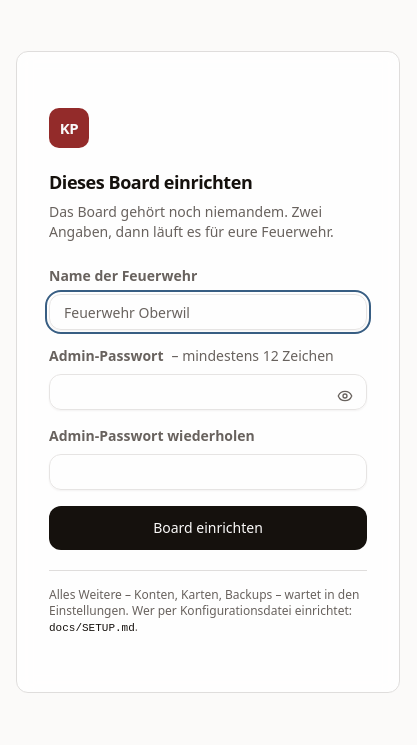
Test: SetupPage › relays the backend refusal honestly on 422
Type "Feuerwehr Testwil" into the field labelled "Name der Feuerwehr".
click(208, 312); type("Feuerwehr Testwil")  # box [49,294,367,330]
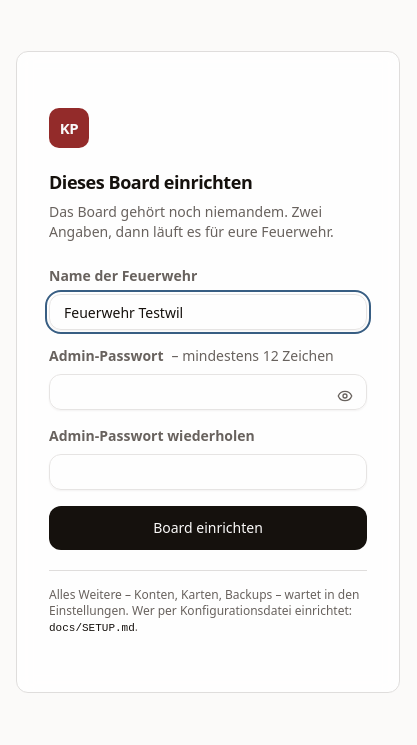
Type "korrekt-pferd-batterie" into the password field labelled "Admin-Passwort – mindestens 12 Zeichen".
click(208, 392); type("korrekt-pferd-batterie")  # box [49,374,367,410]
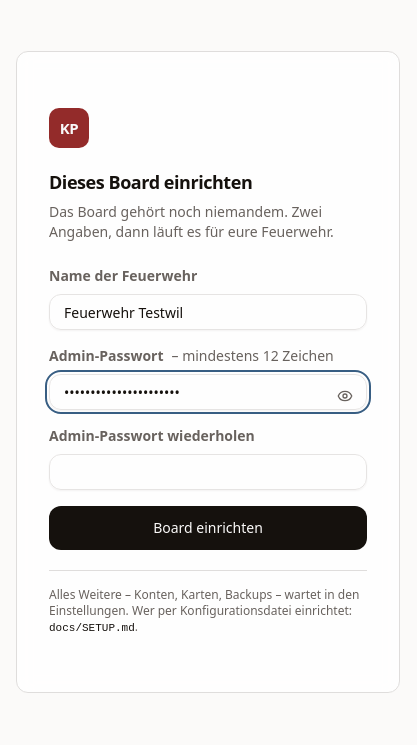
Type "korrekt-pferd-batterie" into the password field labelled "Admin-Passwort wiederholen".
click(208, 472); type("korrekt-pferd-batterie")  # box [49,454,367,490]
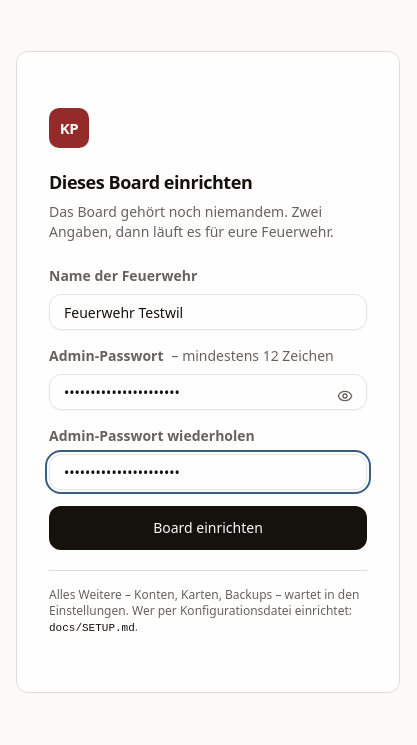
Click the button "Board einrichten".
click(208, 528)  # box [49,506,367,550]
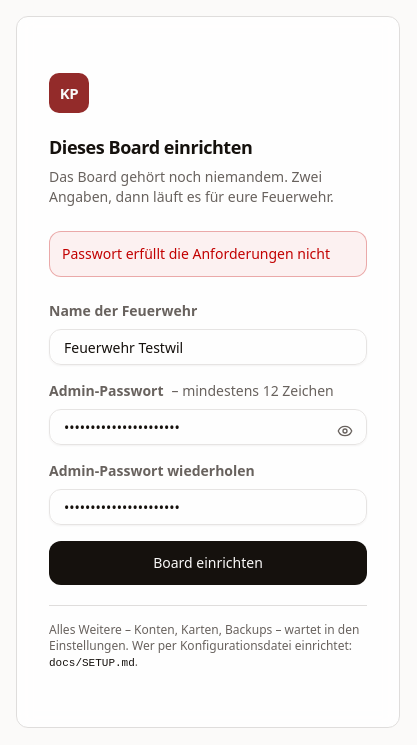
Expected: the button "Board einrichten" is enabled, [49,541,367,585]
Expected: the text "Passwort erfüllt die Anforderungen nicht" is shown, [62,244,354,264]
